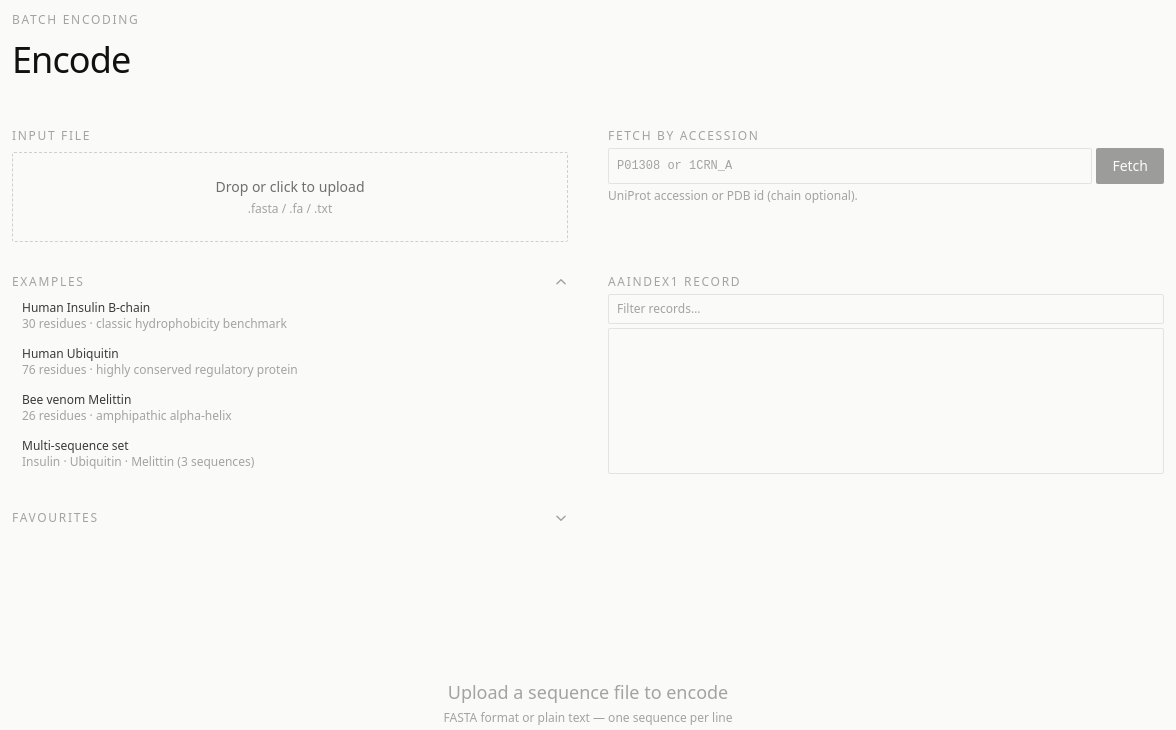
Encode — favourites section › clicking the toggle again closes the favourites section
Click the button "Favourites": (55, 518) left=12, top=510, right=568, bottom=526
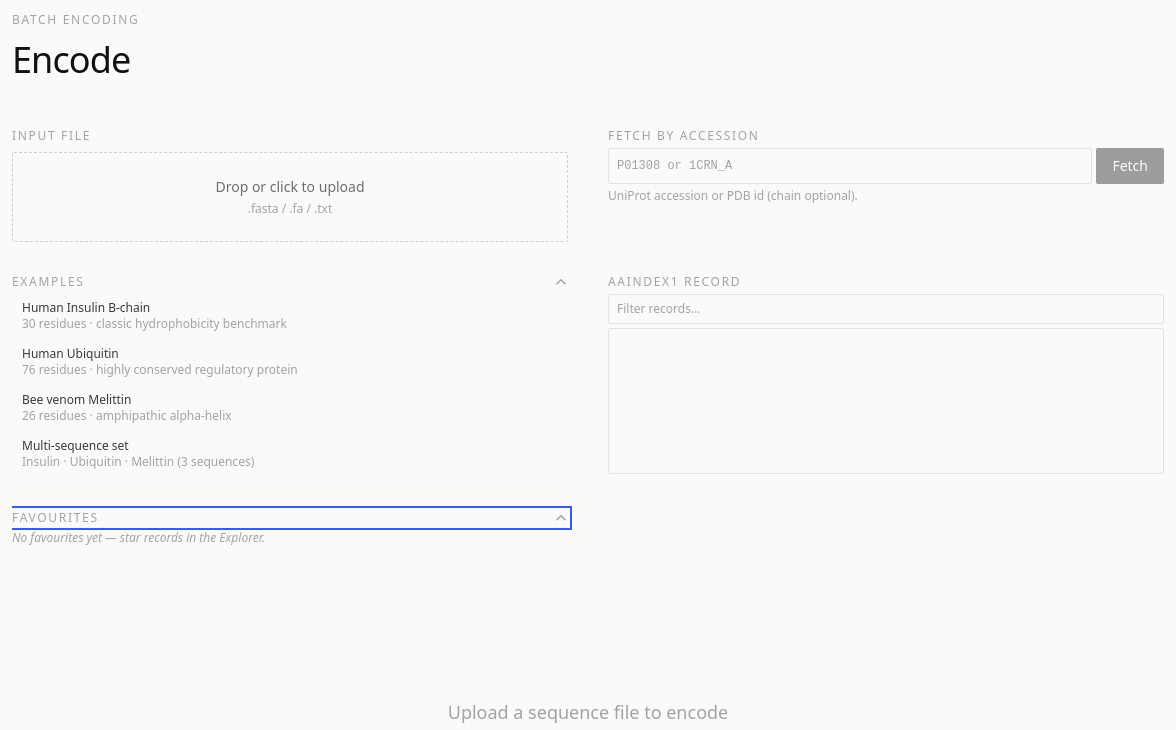
Click the button "Favourites": (55, 518) left=12, top=510, right=568, bottom=526
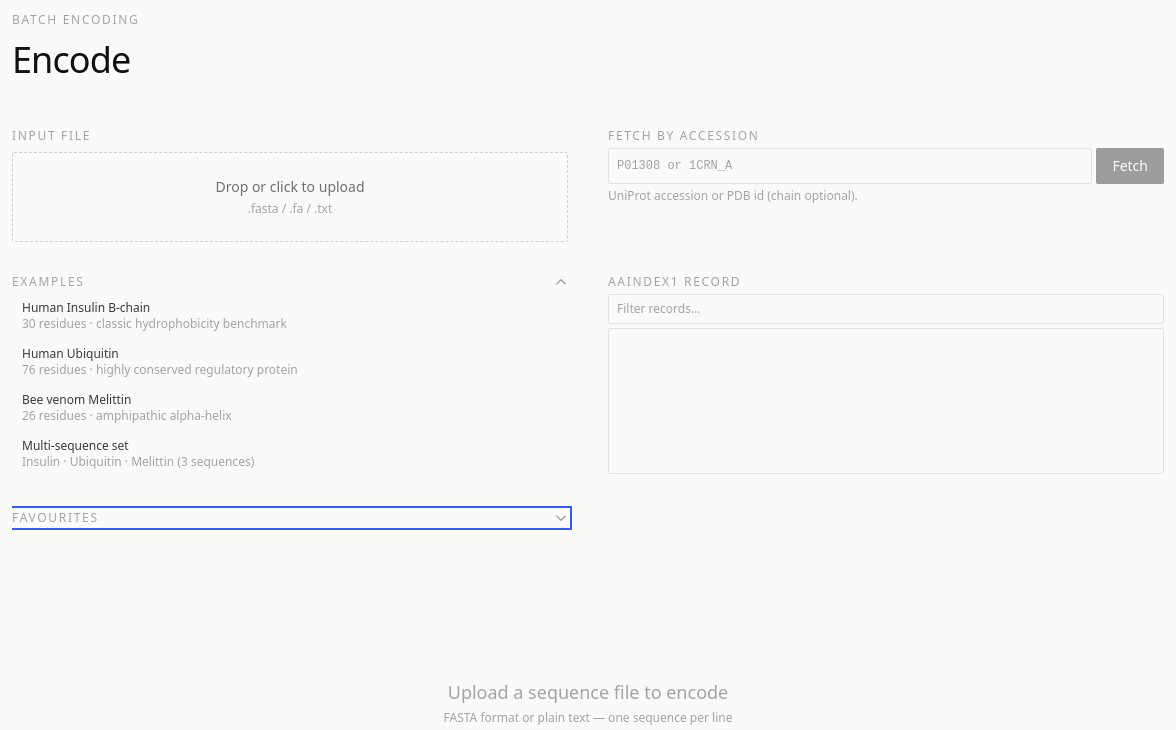
Check: the text "No favourites yet" is gone
